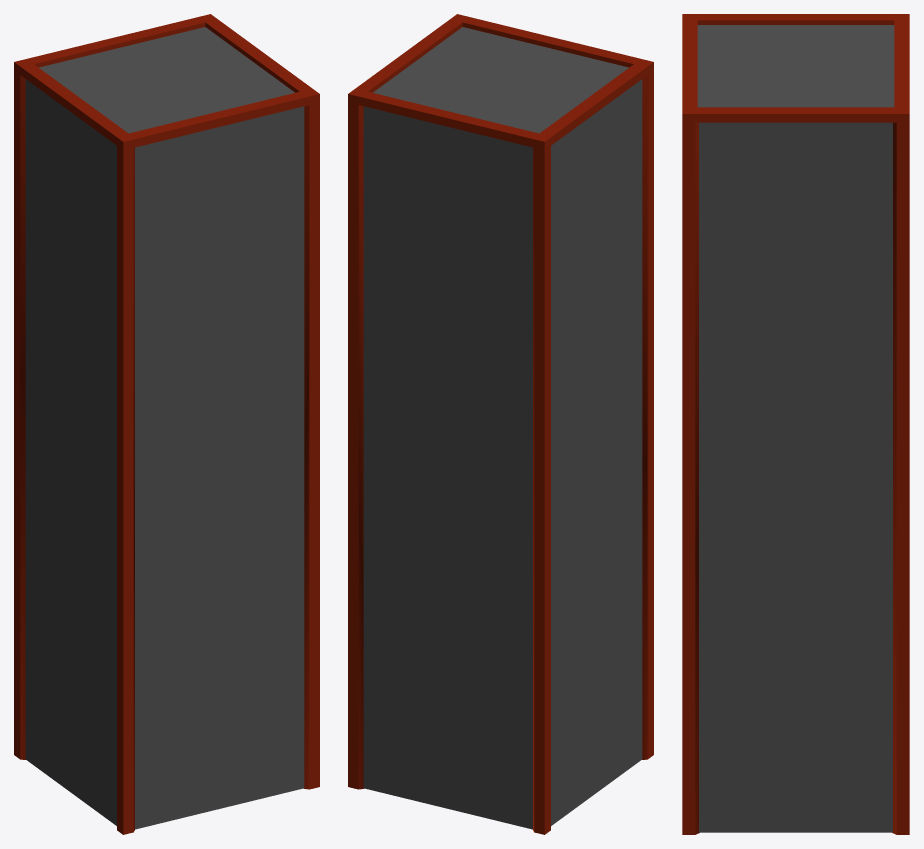
File: Pushing Block(No Rune).fbx
3 renders of one model, left to right at view 1: azimuth 30°, elevation 25°; view 2: azimuth 150°, elevation 25°; view 3: azimuth 270°, elevation 25°, orthographic. The views are drawn at different scales.
Parts seen in each view (by area): view 1: Box001.001; view 2: Box001.001; view 3: Box001.001.
Boxes of the visible parts, <box> form: Box001.001: <box>14,14,319,834</box>; Box001.001: <box>348,14,653,834</box>; Box001.001: <box>682,14,909,834</box>.
Size of the model in its own units: 47.5 by 160 by 45.7.
